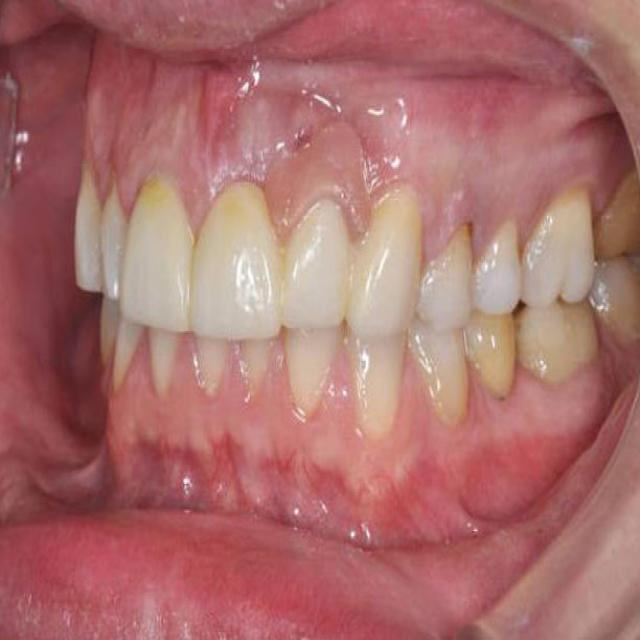caries: (456, 206, 481, 244)
